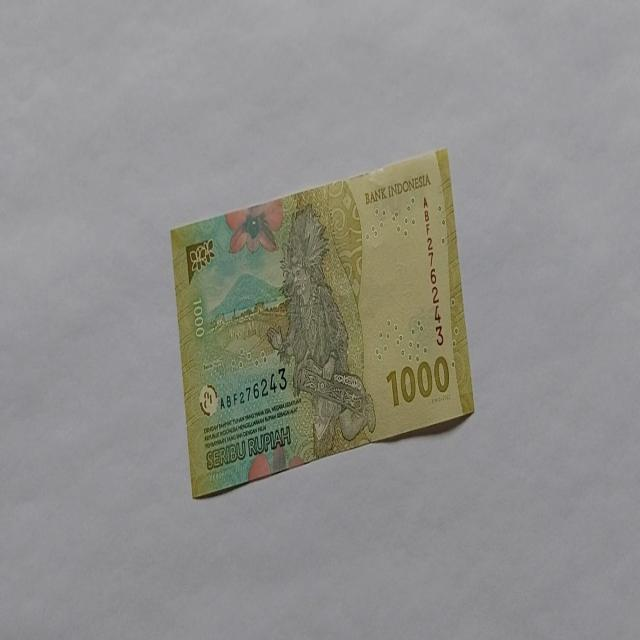seribu rupiah kertas: (170, 146, 474, 498)
